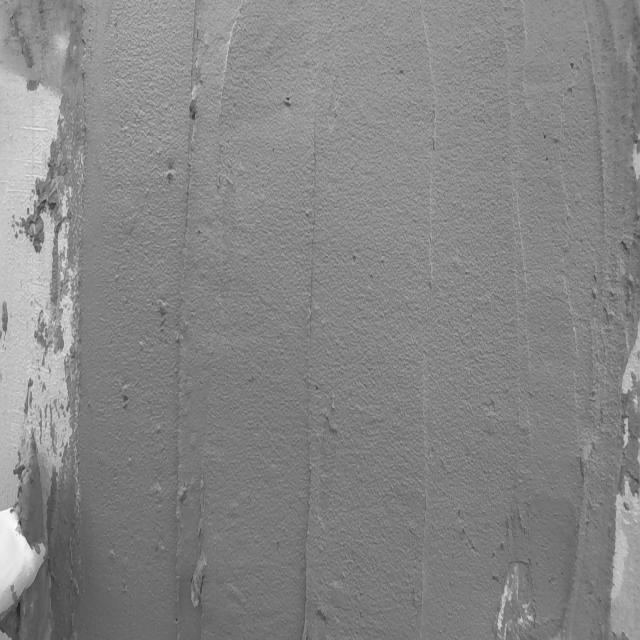trowels marks: (164, 14, 185, 640), (299, 113, 322, 640), (192, 469, 210, 640)
